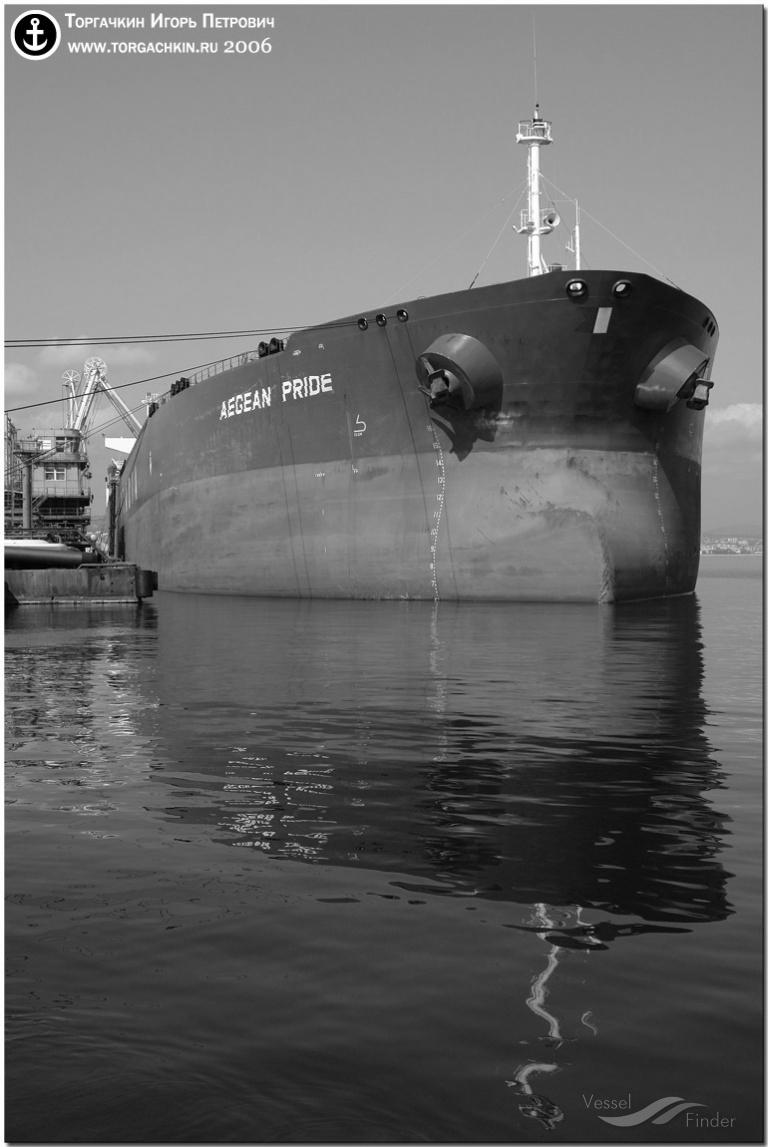OCR: (212, 376, 338, 427)
